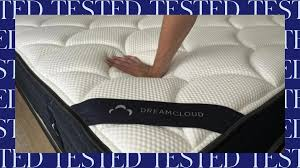bed-matress: (14, 13, 285, 154)
